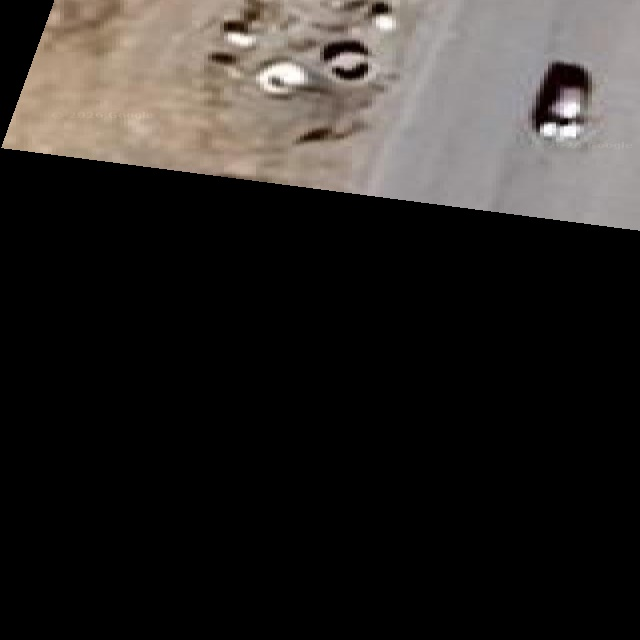car: (532, 63, 590, 140), (322, 39, 371, 79), (368, 2, 395, 30)
